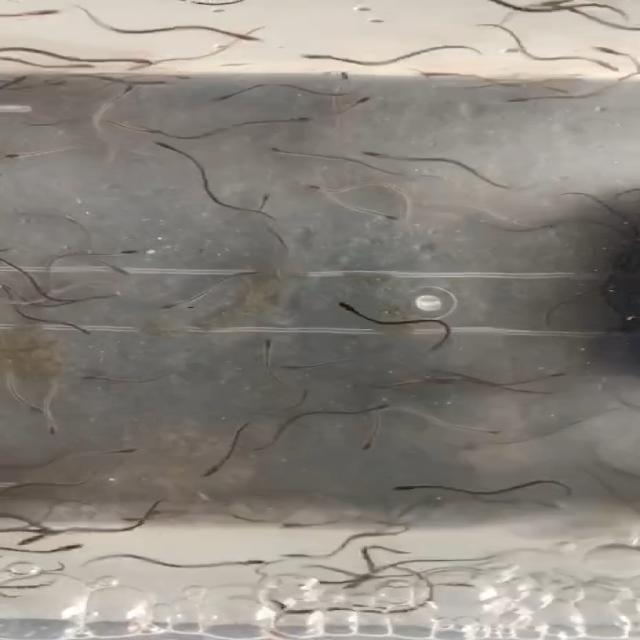active_glass_eel: (0, 0, 57, 19), (110, 51, 167, 70), (126, 506, 182, 525), (583, 42, 640, 60), (147, 295, 201, 314), (331, 575, 379, 596), (577, 56, 625, 76), (113, 119, 165, 137), (348, 432, 385, 456), (280, 52, 336, 67), (5, 529, 47, 548), (266, 110, 319, 125), (353, 143, 397, 161), (334, 298, 373, 318), (272, 356, 319, 372), (61, 318, 98, 338), (323, 62, 353, 86), (340, 97, 377, 116), (145, 136, 186, 153), (263, 140, 301, 158), (87, 443, 144, 455), (254, 189, 285, 211), (41, 407, 67, 433), (100, 258, 132, 279), (224, 26, 261, 44), (537, 0, 581, 15), (356, 209, 406, 222), (298, 181, 346, 194), (73, 370, 112, 386), (500, 94, 539, 109), (278, 516, 307, 536), (265, 550, 323, 560), (12, 396, 44, 414), (49, 59, 96, 70), (0, 148, 34, 163), (404, 68, 455, 78), (40, 543, 86, 554), (229, 558, 274, 569), (198, 464, 228, 480), (133, 79, 176, 90), (462, 425, 505, 436), (361, 400, 393, 414), (388, 483, 420, 497), (116, 245, 140, 260), (262, 334, 278, 356), (108, 83, 127, 101)
